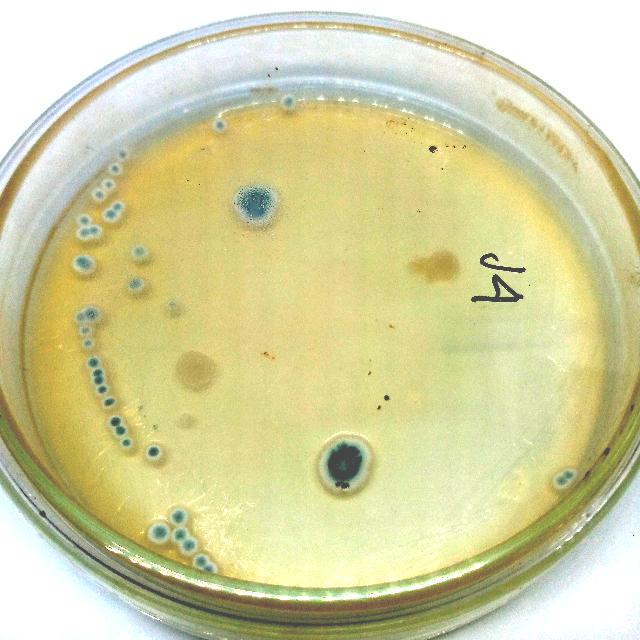colony: (316, 430, 374, 496), (174, 347, 222, 401), (230, 184, 284, 228), (426, 246, 464, 284), (146, 520, 172, 546), (72, 253, 98, 274), (168, 507, 190, 528), (178, 536, 200, 556), (278, 91, 298, 112), (83, 303, 103, 323), (171, 526, 191, 544), (145, 443, 163, 463), (130, 244, 148, 262), (209, 118, 227, 136), (551, 473, 569, 491), (126, 277, 146, 293), (192, 554, 210, 570), (76, 214, 94, 230), (106, 161, 124, 177), (203, 561, 219, 577), (72, 309, 88, 325), (103, 208, 121, 222), (114, 148, 130, 162), (561, 468, 577, 482), (102, 396, 118, 409), (89, 224, 103, 238), (76, 226, 90, 240), (92, 189, 106, 203), (101, 178, 115, 192), (112, 425, 128, 437), (111, 200, 125, 213), (109, 415, 123, 427), (96, 384, 110, 396), (87, 356, 101, 368), (82, 337, 96, 349), (120, 438, 134, 448), (91, 368, 105, 378), (80, 326, 94, 336), (168, 299, 178, 309), (93, 376, 105, 384)
